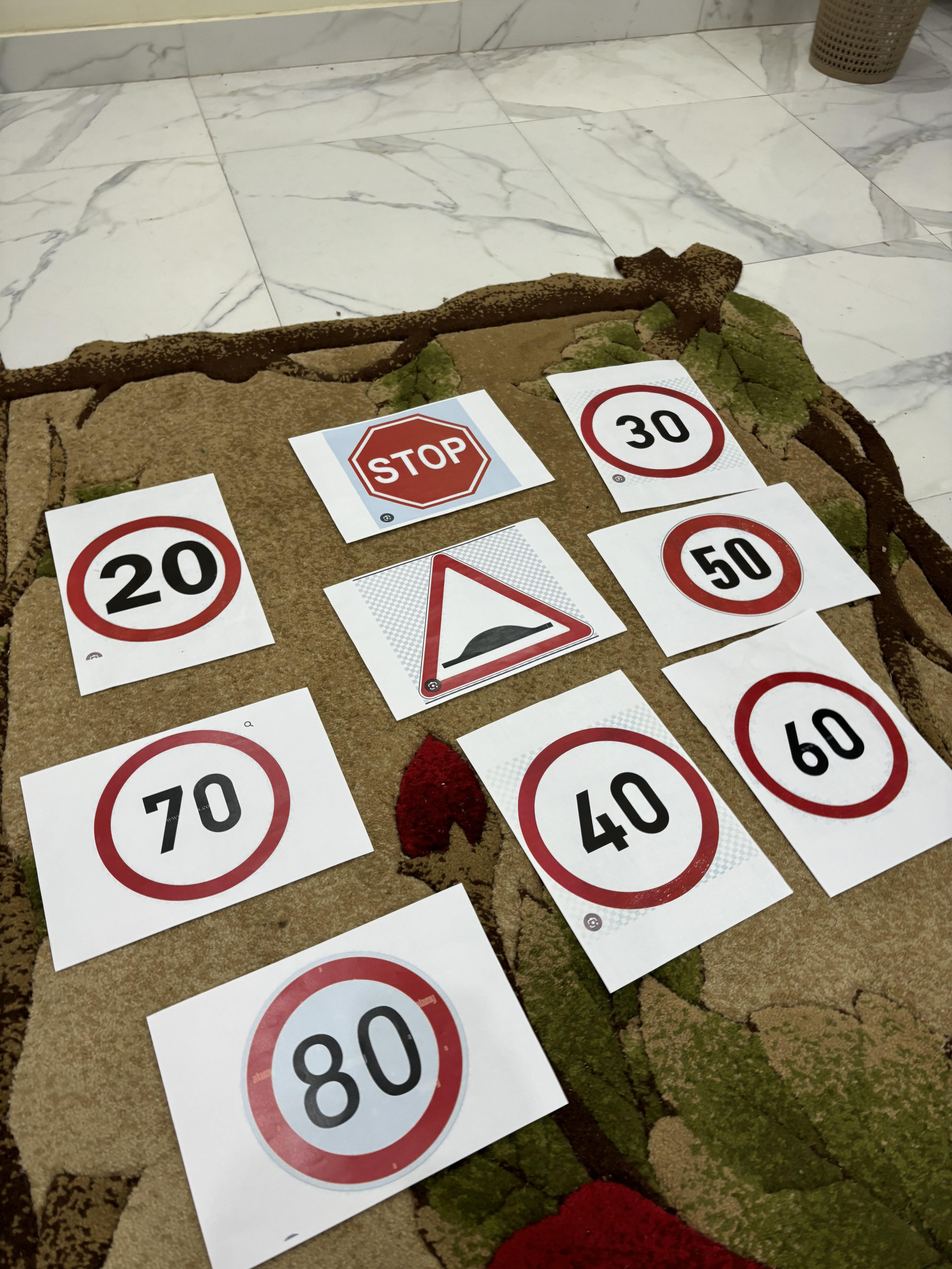20-Speed: (65, 505, 242, 639)
30-speed: (583, 378, 726, 479)
40-Speed: (518, 722, 722, 924)
50-Speed: (652, 505, 810, 621)
60-Speed: (734, 669, 909, 817)
70-Speed: (98, 718, 303, 901)
80-Speed: (238, 947, 472, 1181)
Hump: (403, 536, 605, 685)
Stop: (336, 394, 502, 518)
